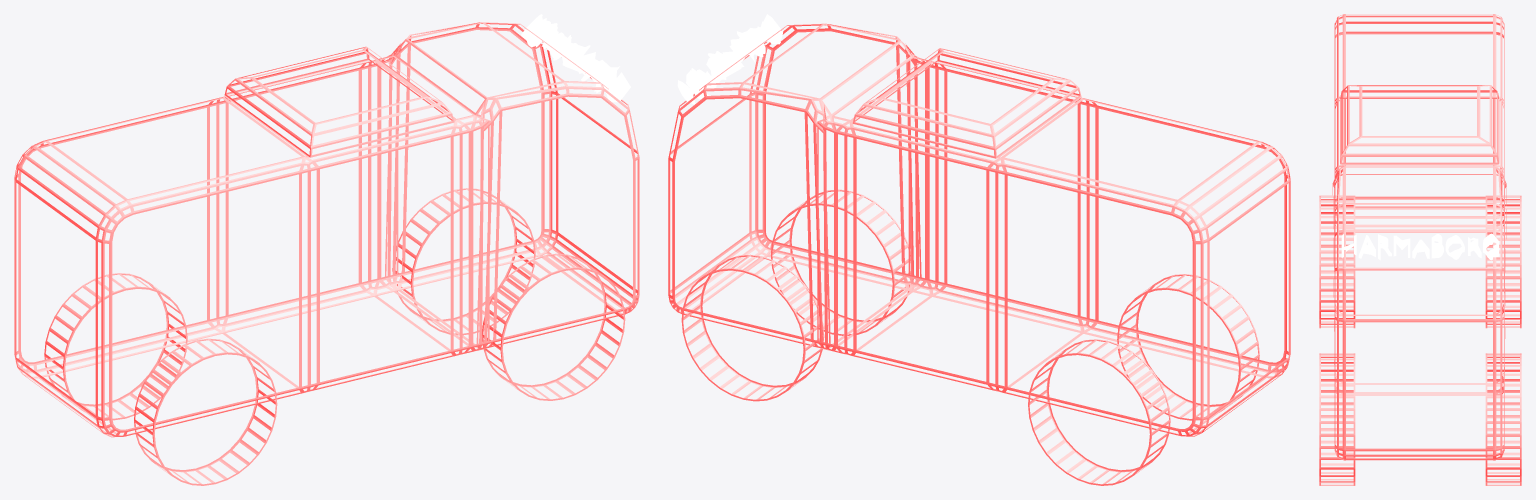
File: harmaborg8-transformed.glb
3 renders of one model, left to right at view 1: azimuth 30°, elevation 25°; view 2: azimuth 150°, elevation 25°; view 3: azimuth 270°, elevation 25°, orthographic. The views are drawn at different scales.
Visible parts, largest first — view 1: Cube; view 2: Cube; view 3: Cube.
Boxes of the visible parts, x1,y1,x2,y2 form: Cube: [14, 14, 639, 485]; Cube: [668, 14, 1290, 485]; Cube: [1319, 14, 1521, 485].
Bounding box in the file's own units: 8.74 × 4.84 × 3.04.
